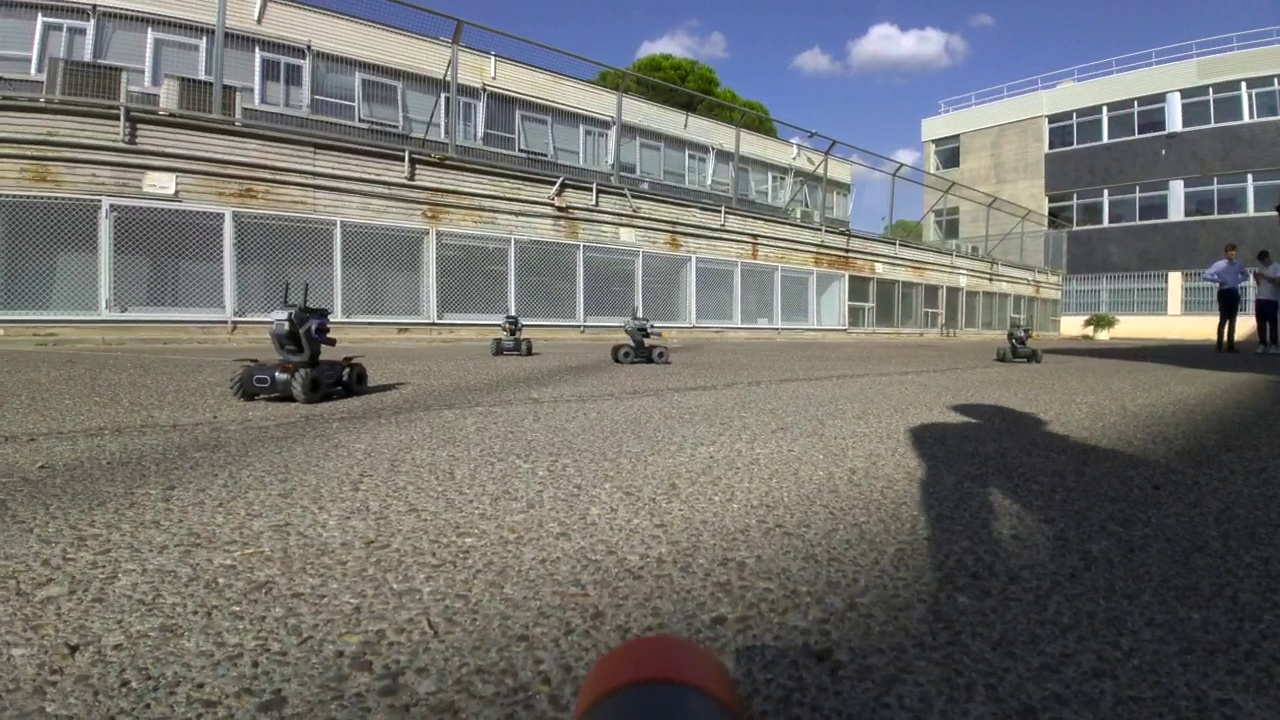robot: (230, 279, 368, 401), (613, 305, 669, 367), (1000, 319, 1045, 365), (495, 308, 537, 355)
